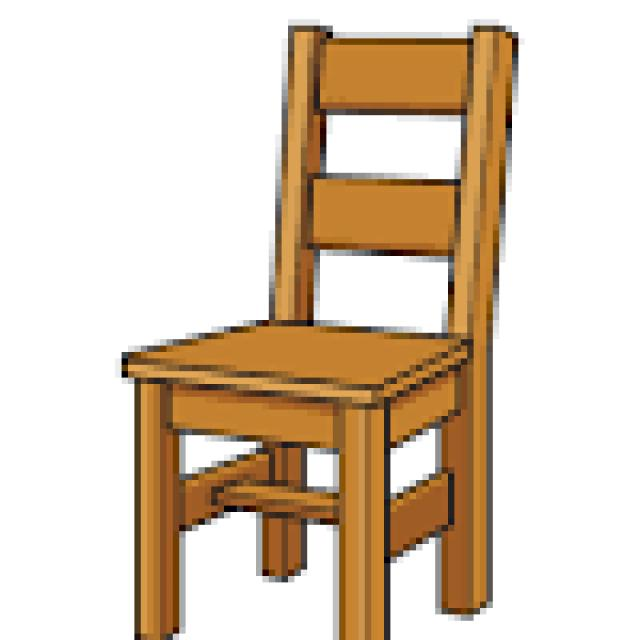chair: (62, 3, 587, 640)
